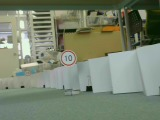speed_10: (59, 49, 76, 67)
